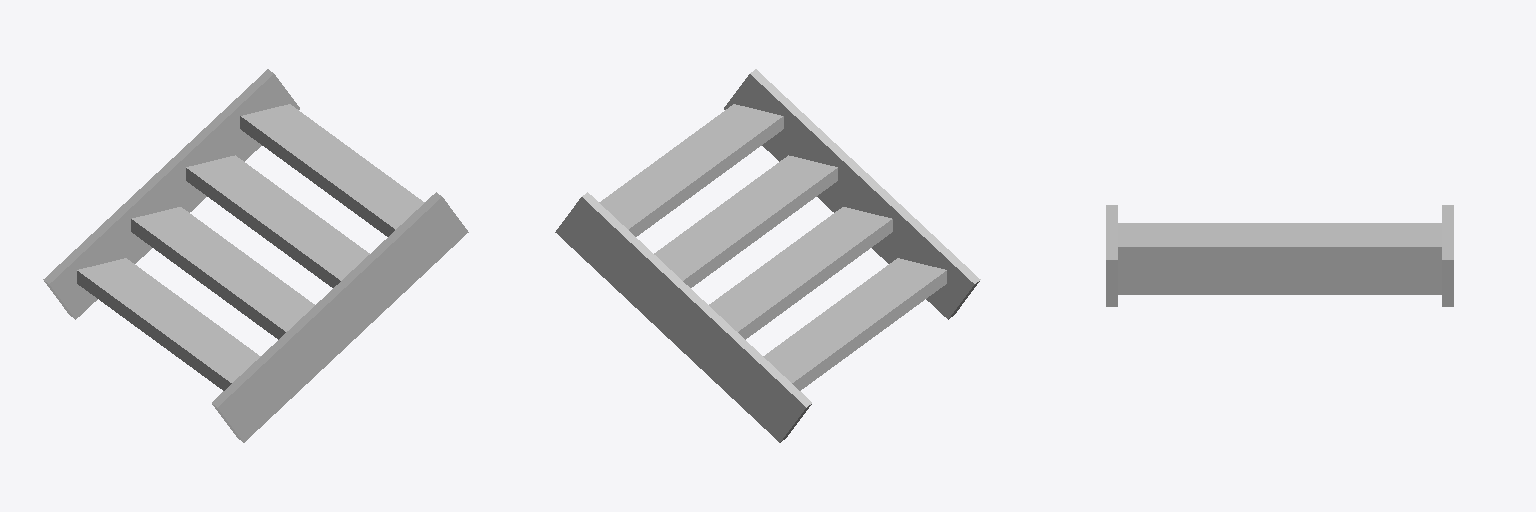
Rendered from StairsS.obj.
The picture shows the model from 3 angles: view 1: azimuth 30°, elevation 25°; view 2: azimuth 150°, elevation 25°; view 3: azimuth 270°, elevation 25°; orthographic projection.
Visible parts, largest first — view 1: StairsS; view 2: StairsS; view 3: StairsS.
Part boxes in pixels (bbox=[...]): StairsS: bbox=[43, 69, 468, 442]; StairsS: bbox=[555, 69, 980, 442]; StairsS: bbox=[1106, 205, 1453, 306].
Size of the model in its own units: 1.46 by 1.1 by 1.75.